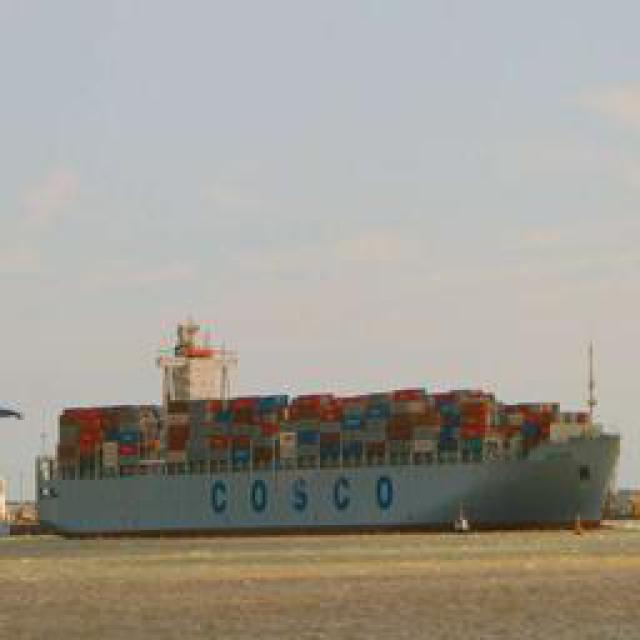Ship: (20, 339, 620, 539)
